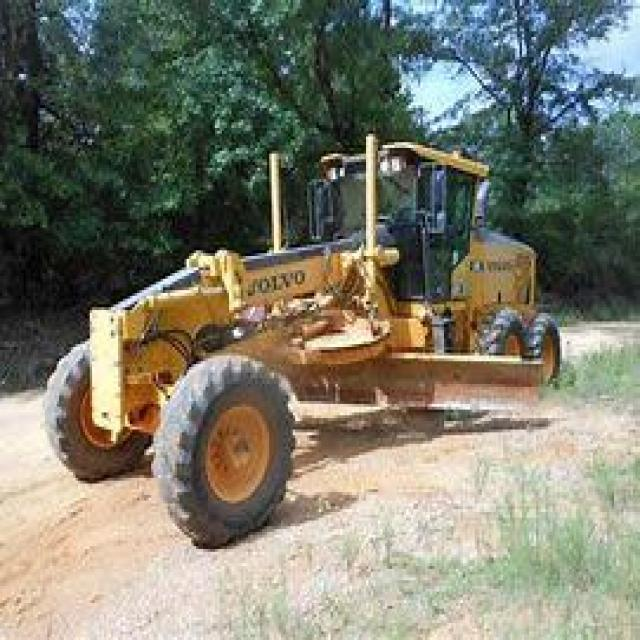Grader: (40, 122, 581, 555)
